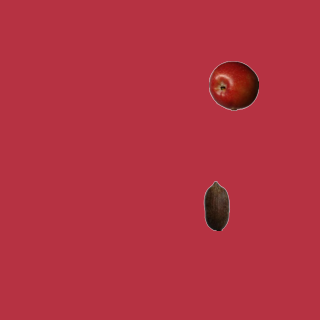Apple Braeburn: (208, 60, 258, 110)
Nut Pecan: (191, 180, 241, 230)
